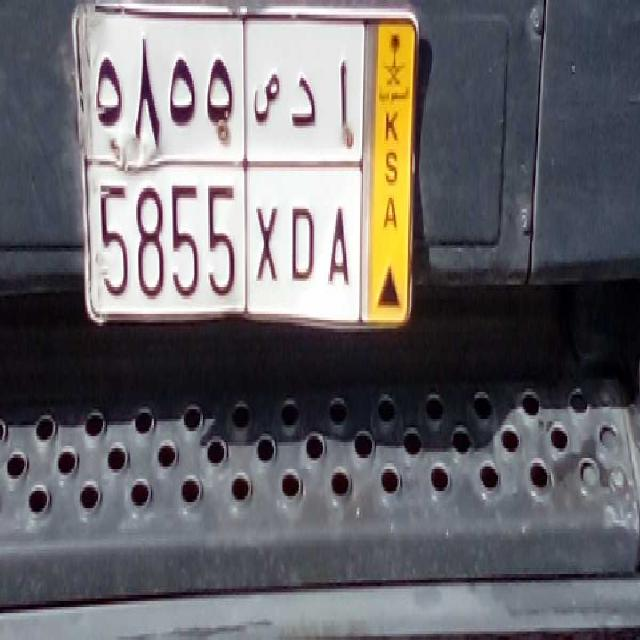license_plate: (84, 161, 358, 317)
